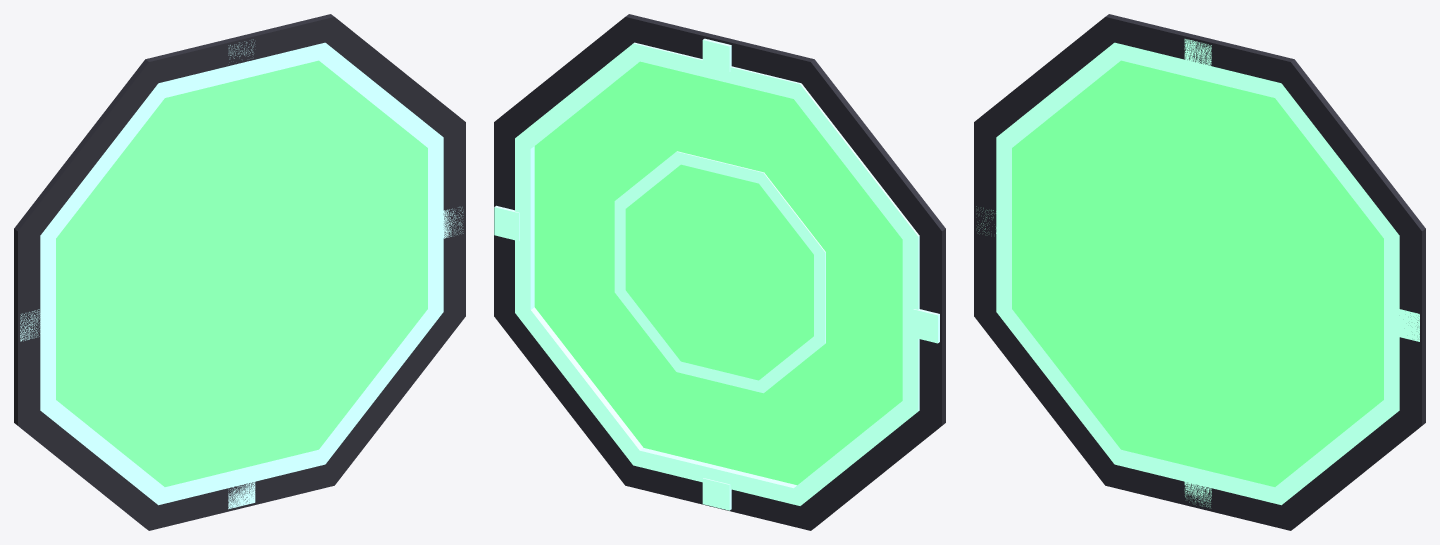
Rendered from portal_c.glb.
The picture shows the model from 3 angles, left to right: view 1: azimuth 30°, elevation 25°; view 2: azimuth 150°, elevation 25°; view 3: azimuth 330°, elevation 25°; orthographic projection.
Visible parts, largest first — view 1: portal_c; view 2: portal_c; view 3: portal_c.
Boxes of the visible parts, x1,y1,x2,y2 form: portal_c: (14, 14, 465, 530); portal_c: (494, 14, 945, 530); portal_c: (974, 14, 1425, 530).
Bounding box in the file's own units: 2 × 2 × 0.045.
